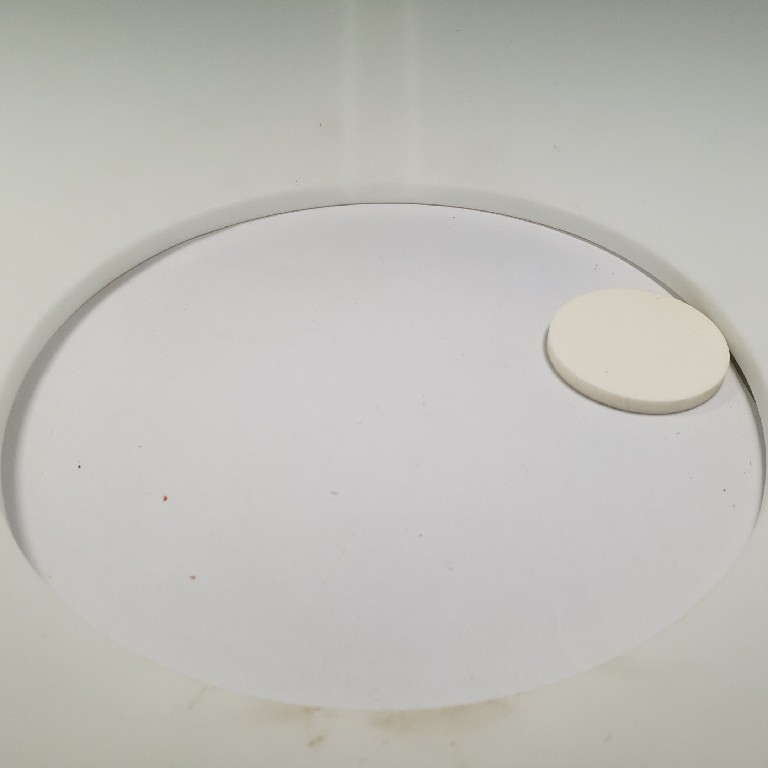ceramics: (539, 283, 737, 422)
